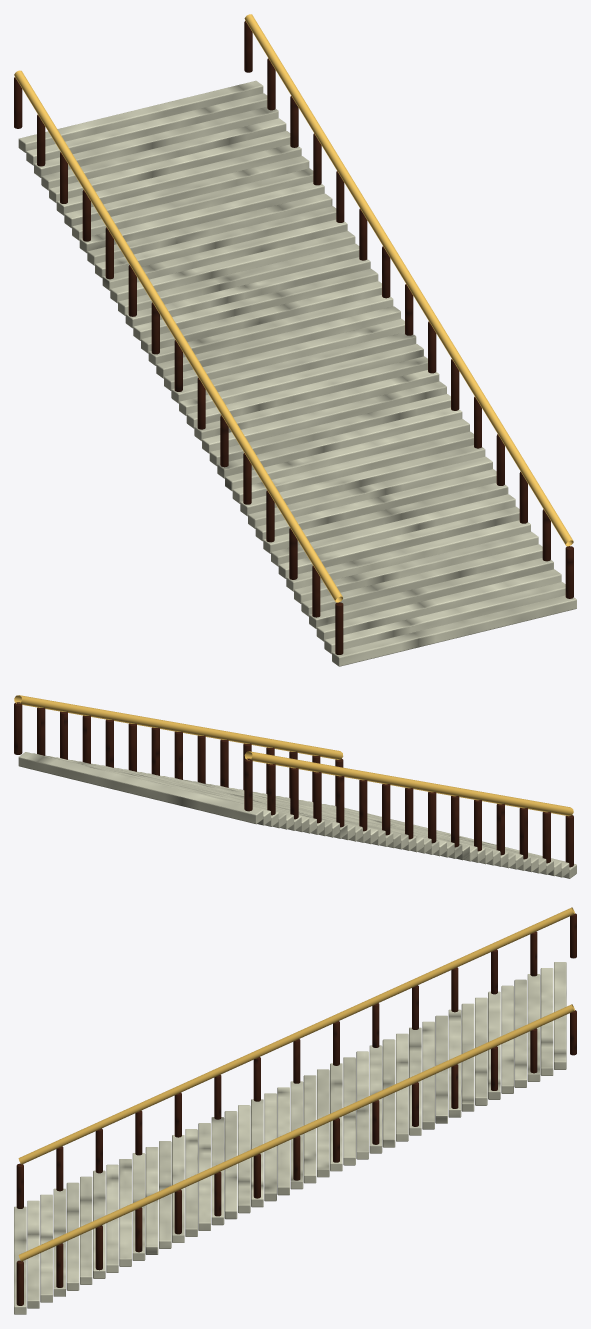
File: bridge-stone.glb
3 views of the same model, one above another, from view 1: azimuth 30°, elevation 25°; view 2: azimuth 150°, elevation 25°; view 3: azimuth 270°, elevation 25° (orthographic). The views are drawn at different scales.
Visible parts, largest first — view 1: Bridge stone tread, Baluster, Handrail; view 2: Bridge stone tread, Baluster, Handrail; view 3: Bridge stone tread, Baluster, Handrail.
Part boxes in pixels (x1=…): Bridge stone tread: x1=18, y1=80, x2=576, y2=666; Baluster: x1=14, y1=21, x2=573, y2=654; Handrail: x1=14, y1=14, x2=573, y2=602; Bridge stone tread: x1=18, y1=752, x2=576, y2=878; Baluster: x1=14, y1=702, x2=573, y2=867; Handrail: x1=14, y1=695, x2=573, y2=816; Bridge stone tread: x1=14, y1=962, x2=566, y2=1314; Baluster: x1=16, y1=913, x2=576, y2=1305; Handrail: x1=18, y1=907, x2=574, y2=1261.
Bounding box in the file's own units: 6 × 8.63 × 14.25.
Materials: 3 (2 with a texture image).
